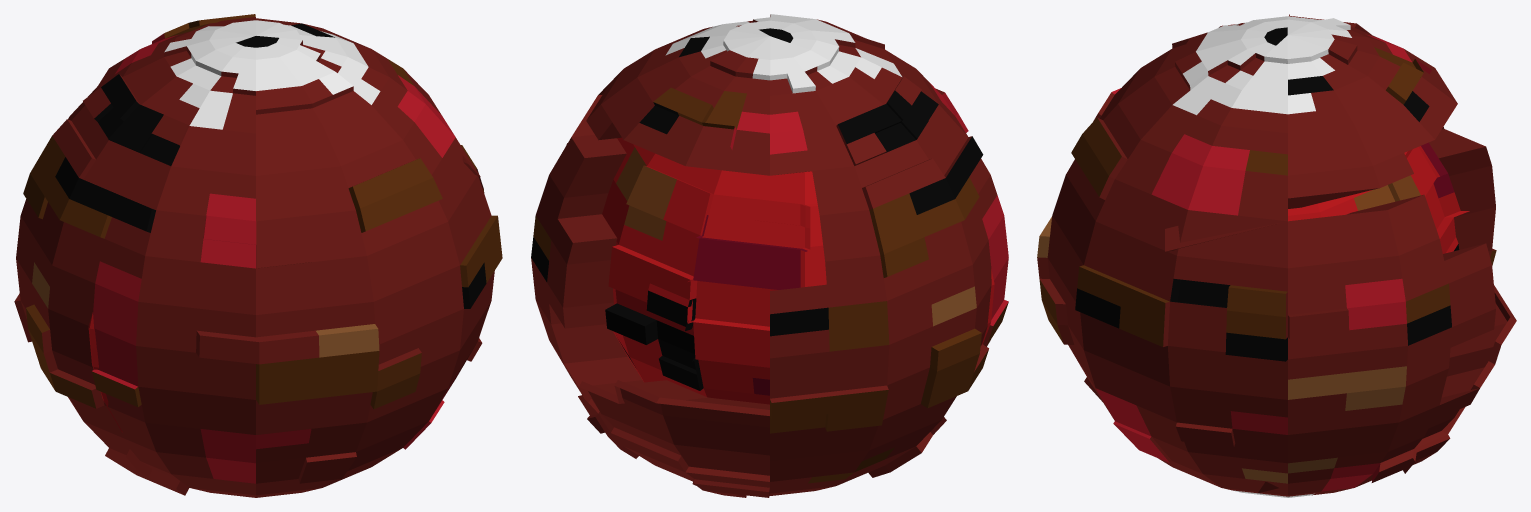
Rendered from Damaged Planet.fbx.
3 renders of one model, left to right at view 1: azimuth 30°, elevation 25°; view 2: azimuth 150°, elevation 25°; view 3: azimuth 270°, elevation 25°, orthographic.
Visible parts, largest first — view 1: Sphere; view 2: Sphere, Sphere.001; view 3: Sphere, Sphere.001.
Boxes of the visible parts, x1,y1,x2,y2 form: Sphere: (14, 14, 502, 497); Sphere: (531, 14, 1008, 497); Sphere.001: (602, 137, 994, 404); Sphere: (1037, 14, 1516, 497); Sphere.001: (1288, 142, 1469, 253).
Bounding box in the file's own units: 206 × 202 × 200.
